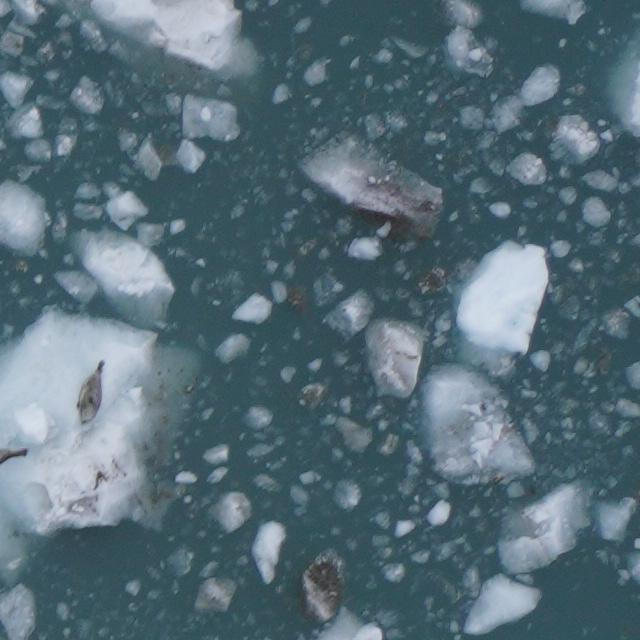seal: (73, 355, 107, 428)
